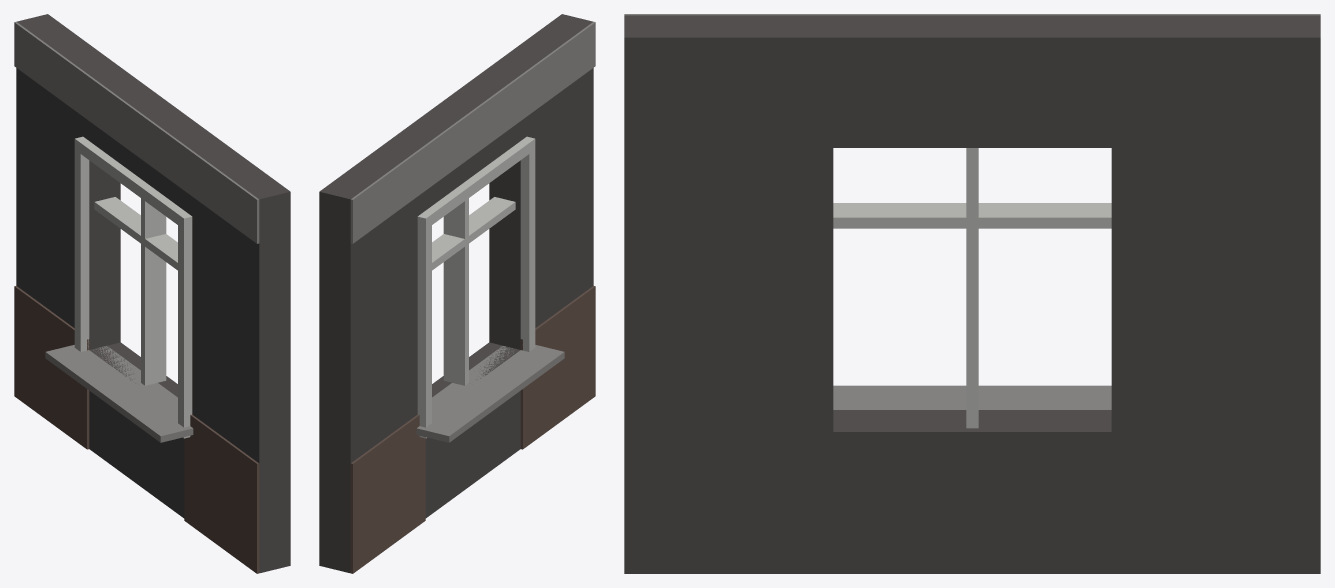
Rendered from B_k_win_tall.glb.
3 renders of one model, left to right at view 1: azimuth 30°, elevation 25°; view 2: azimuth 150°, elevation 25°; view 3: azimuth 270°, elevation 25°, orthographic. The views are drawn at different scales.
Parts seen in each view (by area): view 1: Cube.002, Cube, Cube.006, Cube.003, Cube.001, Cube.004, Cube.010, Cube.005, Cube.011, Cube.008, Cube.007, Cube.009 (+1 smaller); view 2: Cube, Cube.002, Cube.006, Cube.001, Cube.003, Cube.004, Cube.010, Cube.005, Cube.011, Cube.007, Cube.008, Cube.009 (+1 smaller); view 3: Cube, Cube.002, Cube.004, Cube.005, Cube.012, Cube.010, Cube.011, Cube.006.
Boxes of the visible parts, <box> form: Cube.002: <box>186,138,290,573</box>; Cube: <box>16,14,120,349</box>; Cube.006: <box>14,21,259,243</box>; Cube.003: <box>184,414,259,573</box>; Cube.001: <box>14,285,89,449</box>; Cube.004: <box>89,342,184,518</box>; Cube.010: <box>45,345,193,442</box>; Cube.005: <box>89,67,217,212</box>; Cube.011: <box>141,198,166,385</box>; Cube.008: <box>178,213,192,438</box>; Cube.007: <box>74,140,89,351</box>; Cube.009: <box>74,136,190,228</box>; Cube: <box>319,138,423,573</box>; Cube.002: <box>489,14,593,349</box>; Cube.006: <box>350,21,595,243</box>; Cube.001: <box>350,414,425,573</box>; Cube.003: <box>520,285,595,449</box>; Cube.004: <box>425,342,520,518</box>; Cube.010: <box>416,345,564,442</box>; Cube.005: <box>392,67,521,211</box>; Cube.011: <box>443,198,468,385</box>; Cube.007: <box>417,212,431,438</box>; Cube.008: <box>520,140,535,351</box>; Cube.009: <box>419,136,535,229</box>; Cube: <box>1111,15,1320,573</box>; Cube.002: <box>624,15,833,573</box>; Cube.004: <box>831,410,1113,573</box>; Cube.005: <box>831,15,1113,147</box>; Cube.012: <box>833,203,1111,228</box>; Cube.010: <box>833,385,1111,409</box>; Cube.011: <box>966,148,978,428</box>; Cube.006: <box>624,14,1320,15</box>.
Size of the model in its own units: 0.63 by 3.4 by 4.
